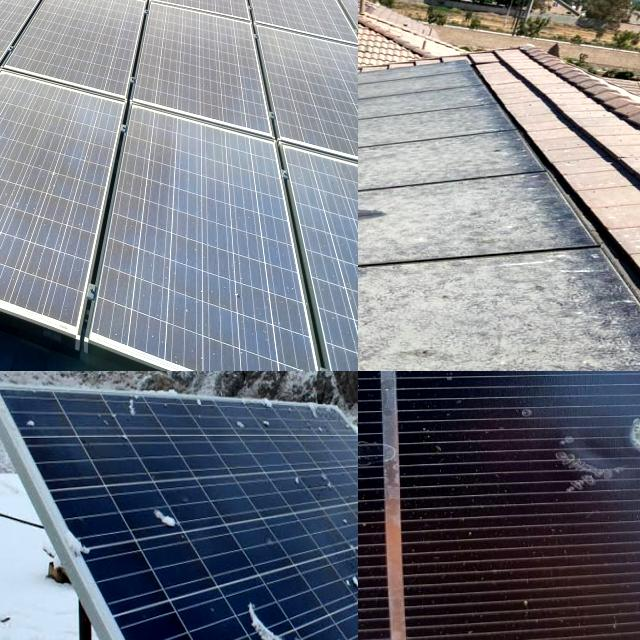dust: (358, 243, 611, 371), (176, 154, 264, 368), (358, 174, 540, 242), (358, 101, 498, 177), (358, 57, 486, 115), (0, 159, 65, 248)
panel: (244, 597, 307, 640), (140, 498, 200, 536), (226, 408, 288, 442), (278, 470, 355, 496), (114, 407, 172, 432), (300, 404, 340, 437), (21, 412, 68, 432)
shadow: (610, 393, 640, 483)
